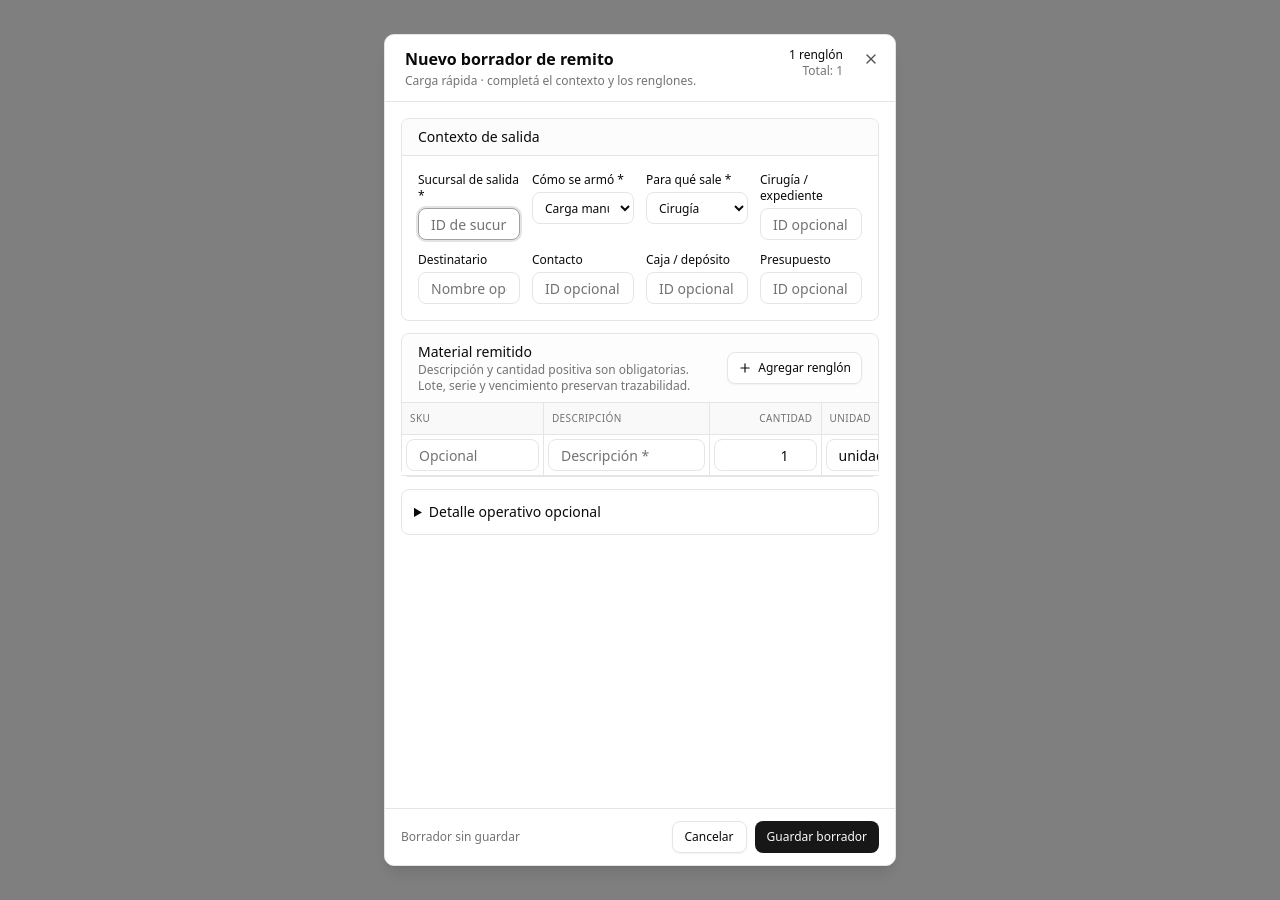
Test: RemitoDraftDialog › shows field-level errors and focuses the first invalid required field
The image size is (1280, 900).
Replace the text in the number field named "Cantidad del renglón 1" with "0" at coordinates (765, 455), box left=714, top=439, right=816, bottom=471
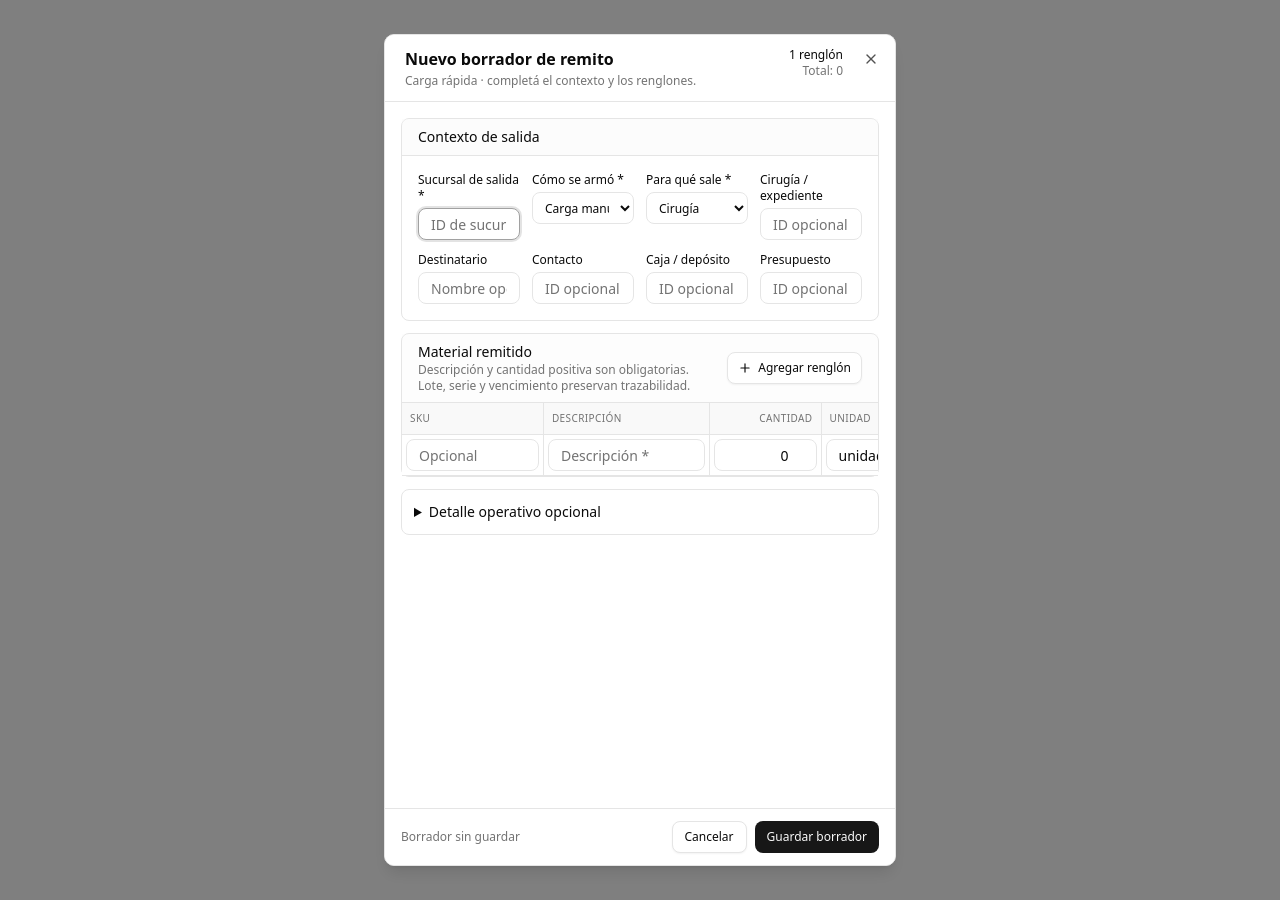
Click the button "Guardar borrador" at coordinates (817, 837), box left=755, top=821, right=879, bottom=853
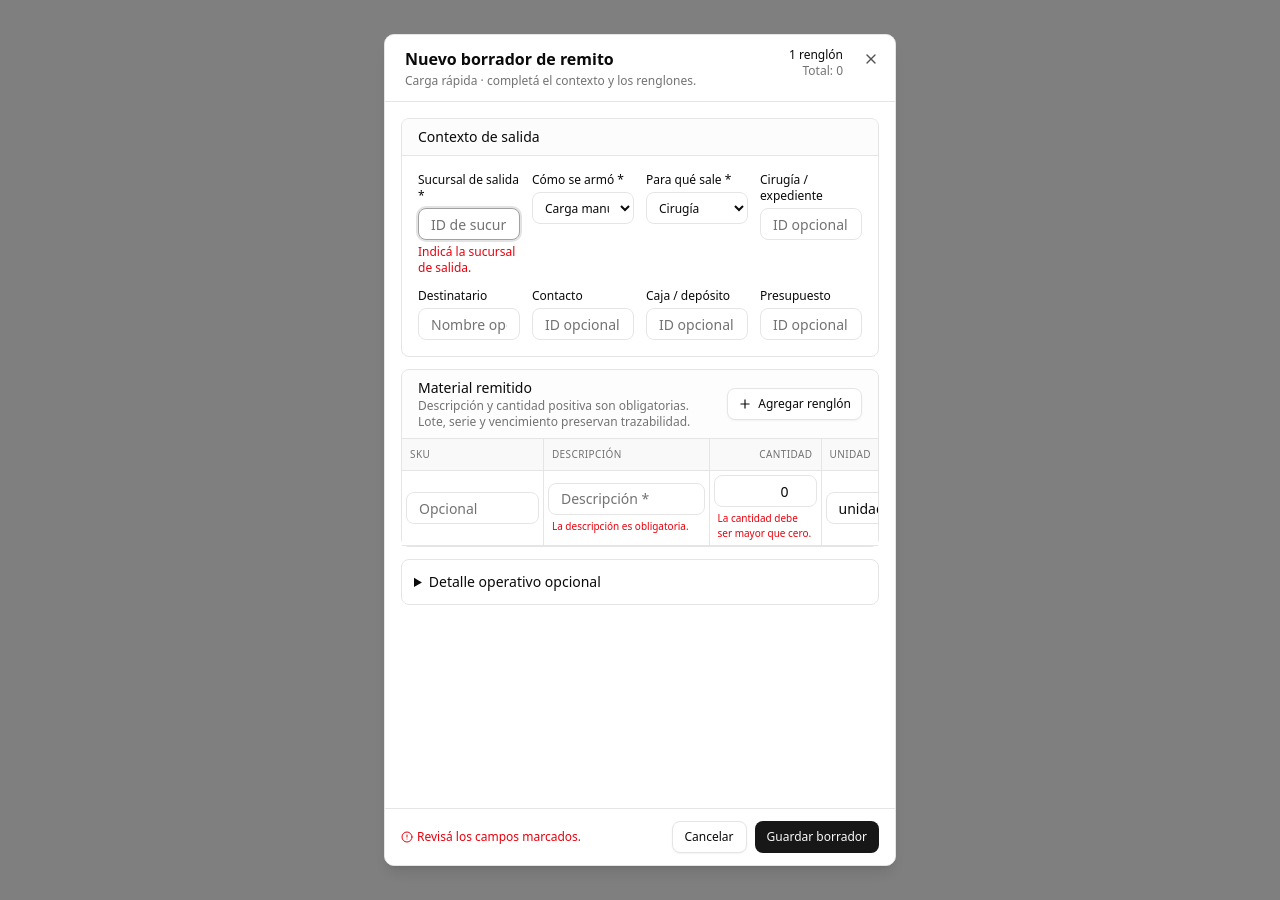
Expected: the text "Indicá la sucursal de salida." is shown, left=418, top=244, right=520, bottom=276
Expected: the text "La descripción es obligatoria." is shown, left=548, top=514, right=704, bottom=534
Expected: the text "La cantidad debe ser mayor que cero." is shown, left=714, top=507, right=816, bottom=541
